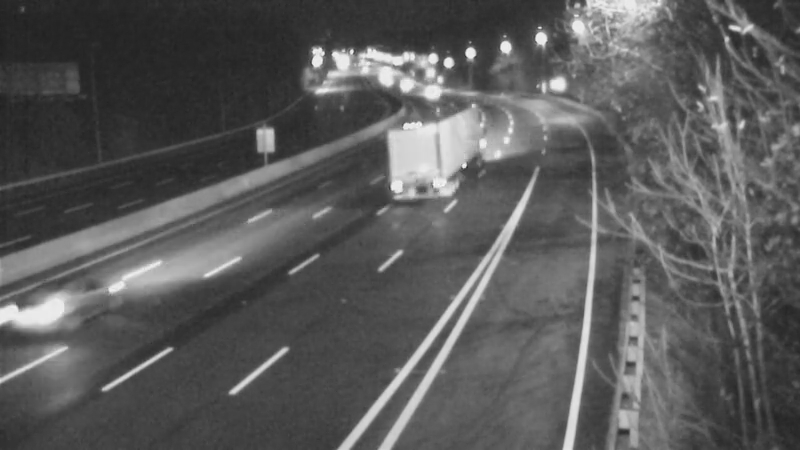vehicle: (1, 253, 110, 363), (391, 114, 471, 194), (380, 59, 430, 109), (407, 65, 457, 115)
